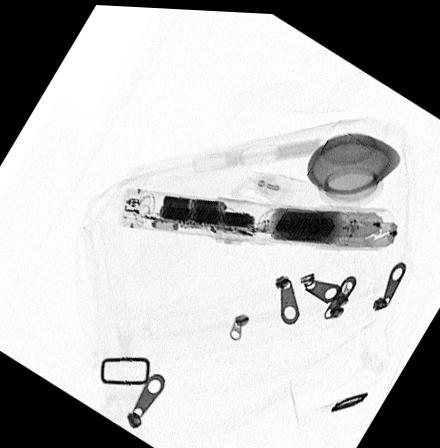Baton: (114, 184, 398, 246)
